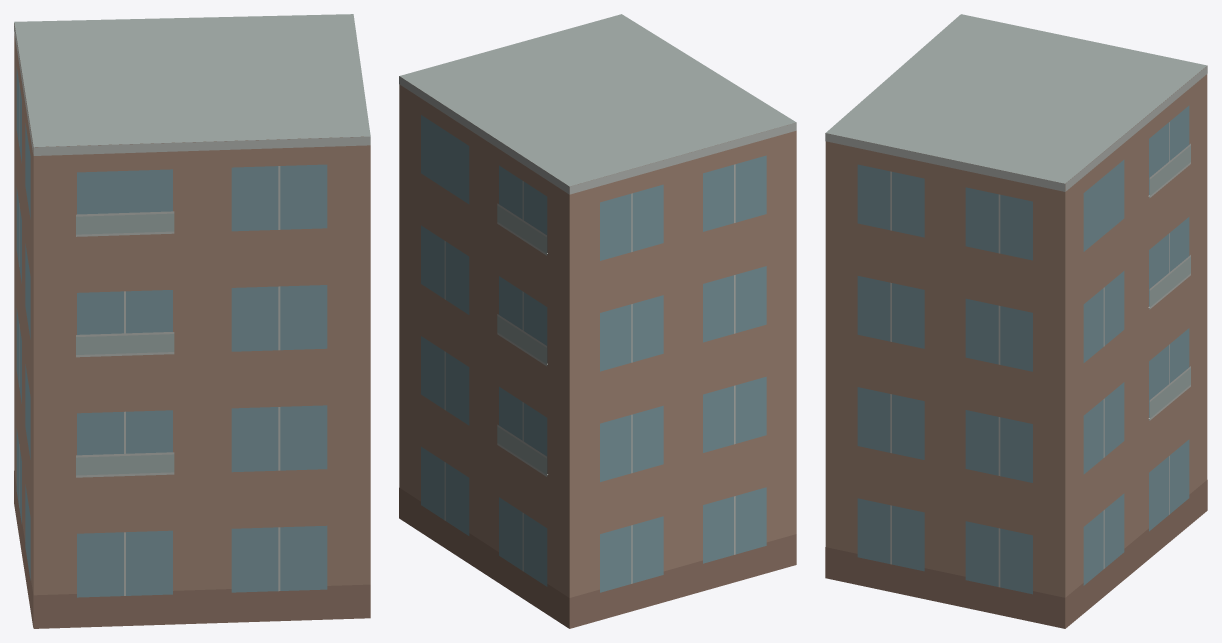
File: survey-upis-32723716.glb
3 renders of one model, left to right at view 1: azimuth 30°, elevation 25°; view 2: azimuth 150°, elevation 25°; view 3: azimuth 270°, elevation 25°, orthographic. The views are drawn at different scales.
Visible parts, largest first — view 1: survey-upis-32723716.tmp; view 2: survey-upis-32723716.tmp; view 3: survey-upis-32723716.tmp.
Boxes of the visible parts, x1,y1,x2,y2 form: survey-upis-32723716.tmp: (14, 14, 370, 628); survey-upis-32723716.tmp: (399, 14, 796, 628); survey-upis-32723716.tmp: (825, 14, 1207, 628).
Bounding box in the file's own units: 10.8 × 13.2 × 10.28.
